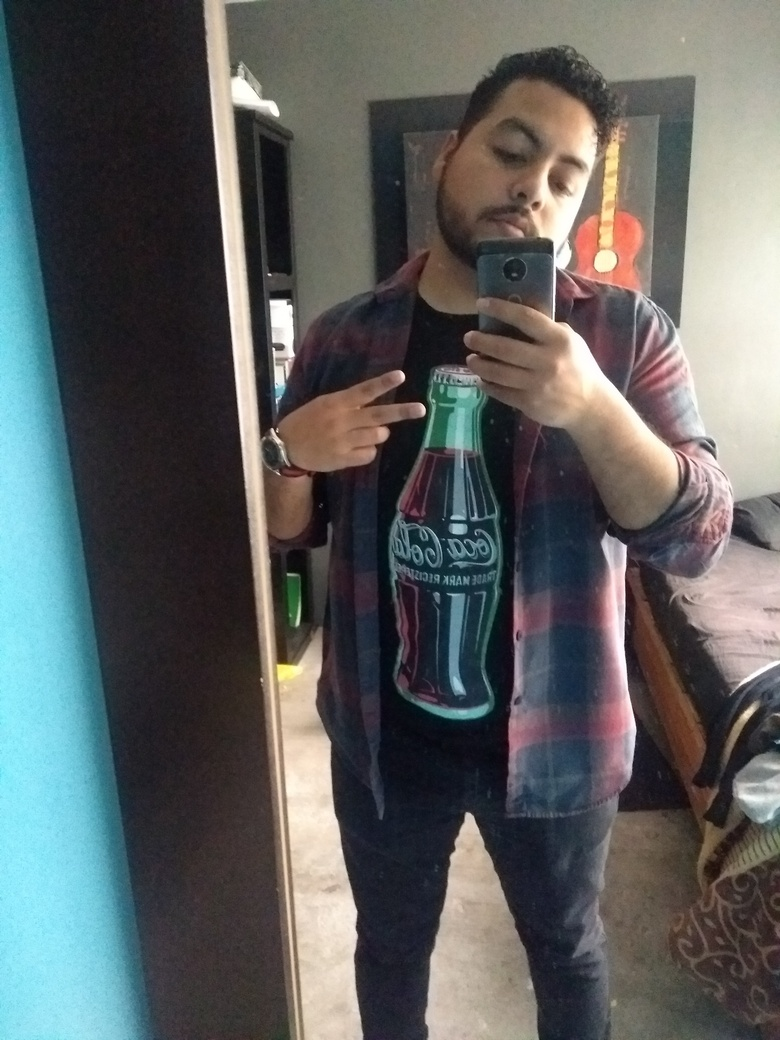Yoshi: (398, 23, 690, 319)
